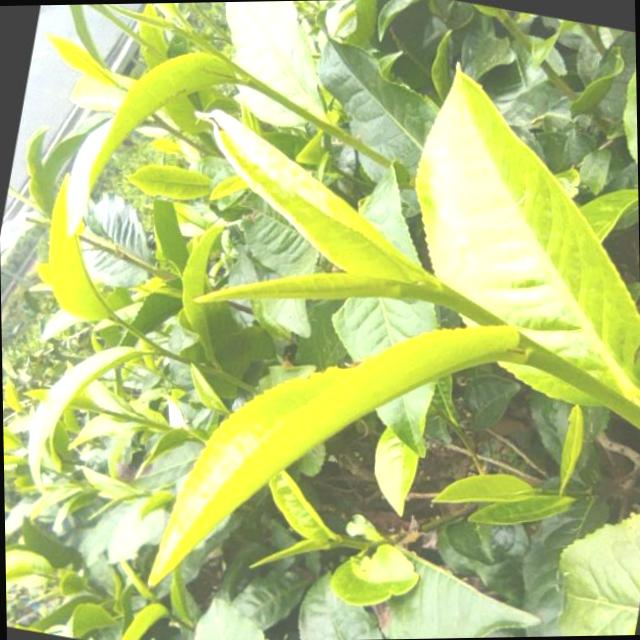Stem: (341, 537, 352, 548), (163, 349, 171, 359)
